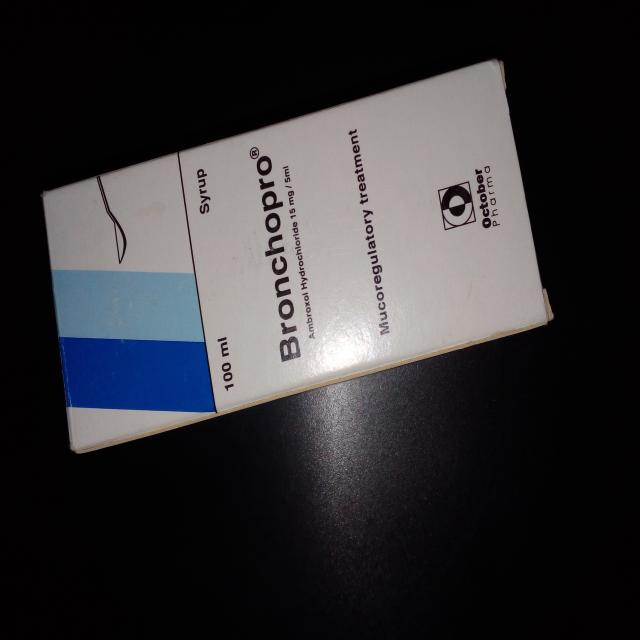Medicine: (41, 53, 557, 456)
